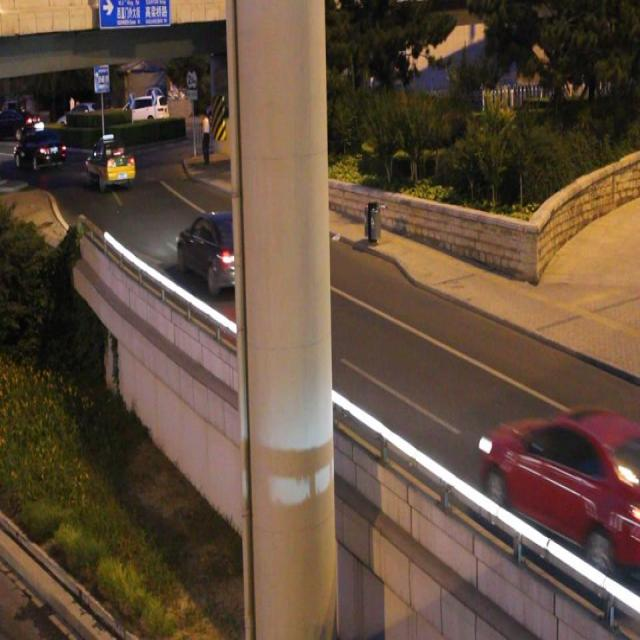car: (484, 409, 640, 569), (178, 212, 252, 290), (86, 142, 134, 186)
